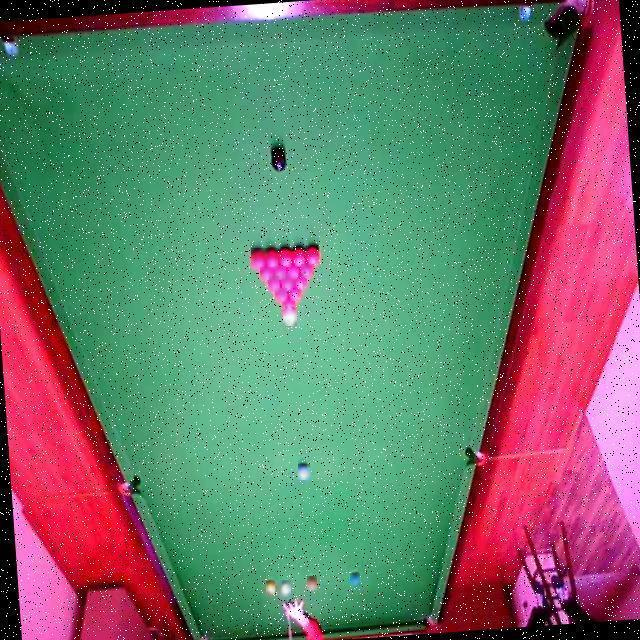Ball: (269, 143, 287, 173), (251, 248, 266, 270), (306, 248, 321, 267), (279, 247, 293, 267), (292, 248, 306, 268), (282, 273, 297, 291), (265, 248, 278, 268), (277, 580, 291, 597), (283, 310, 297, 326), (298, 464, 310, 480), (301, 264, 314, 278), (288, 288, 301, 302), (275, 288, 287, 303), (260, 267, 273, 280), (273, 266, 286, 279), (282, 298, 295, 311), (288, 265, 300, 279), (269, 276, 279, 292), (296, 277, 308, 290), (307, 576, 317, 590), (350, 573, 360, 586), (266, 581, 275, 594)
